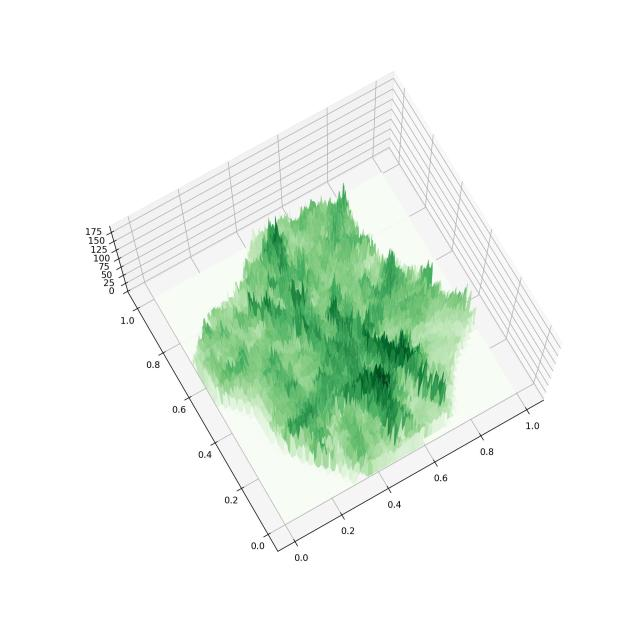spruce: (60, 46, 611, 587)
